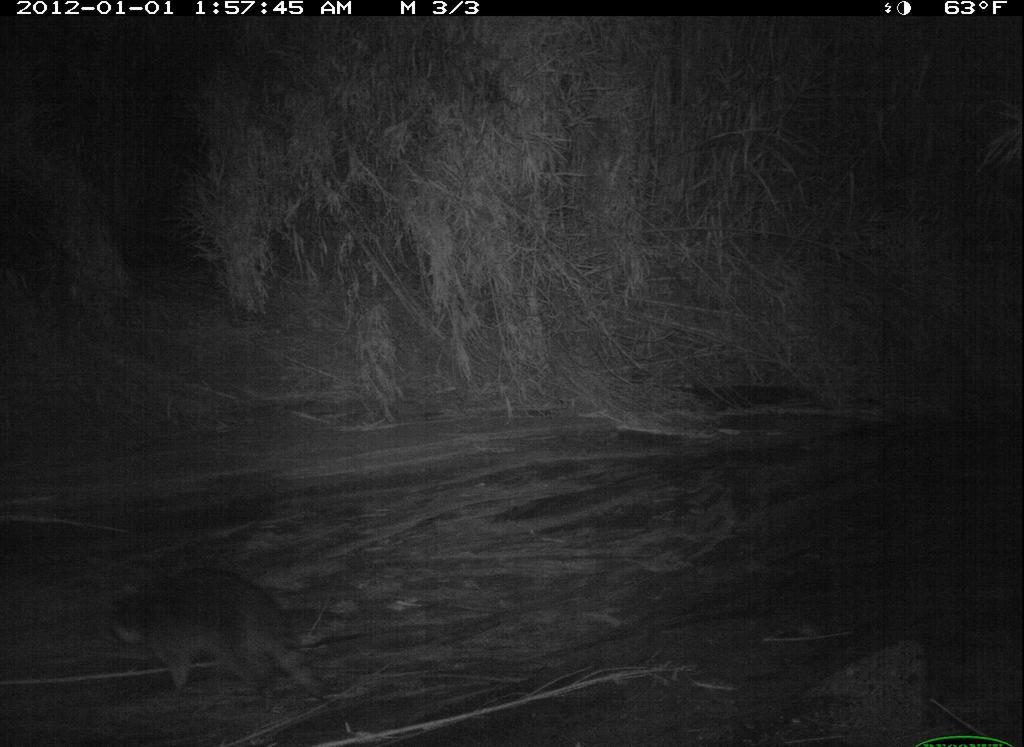raccoon: (97, 561, 337, 730)
